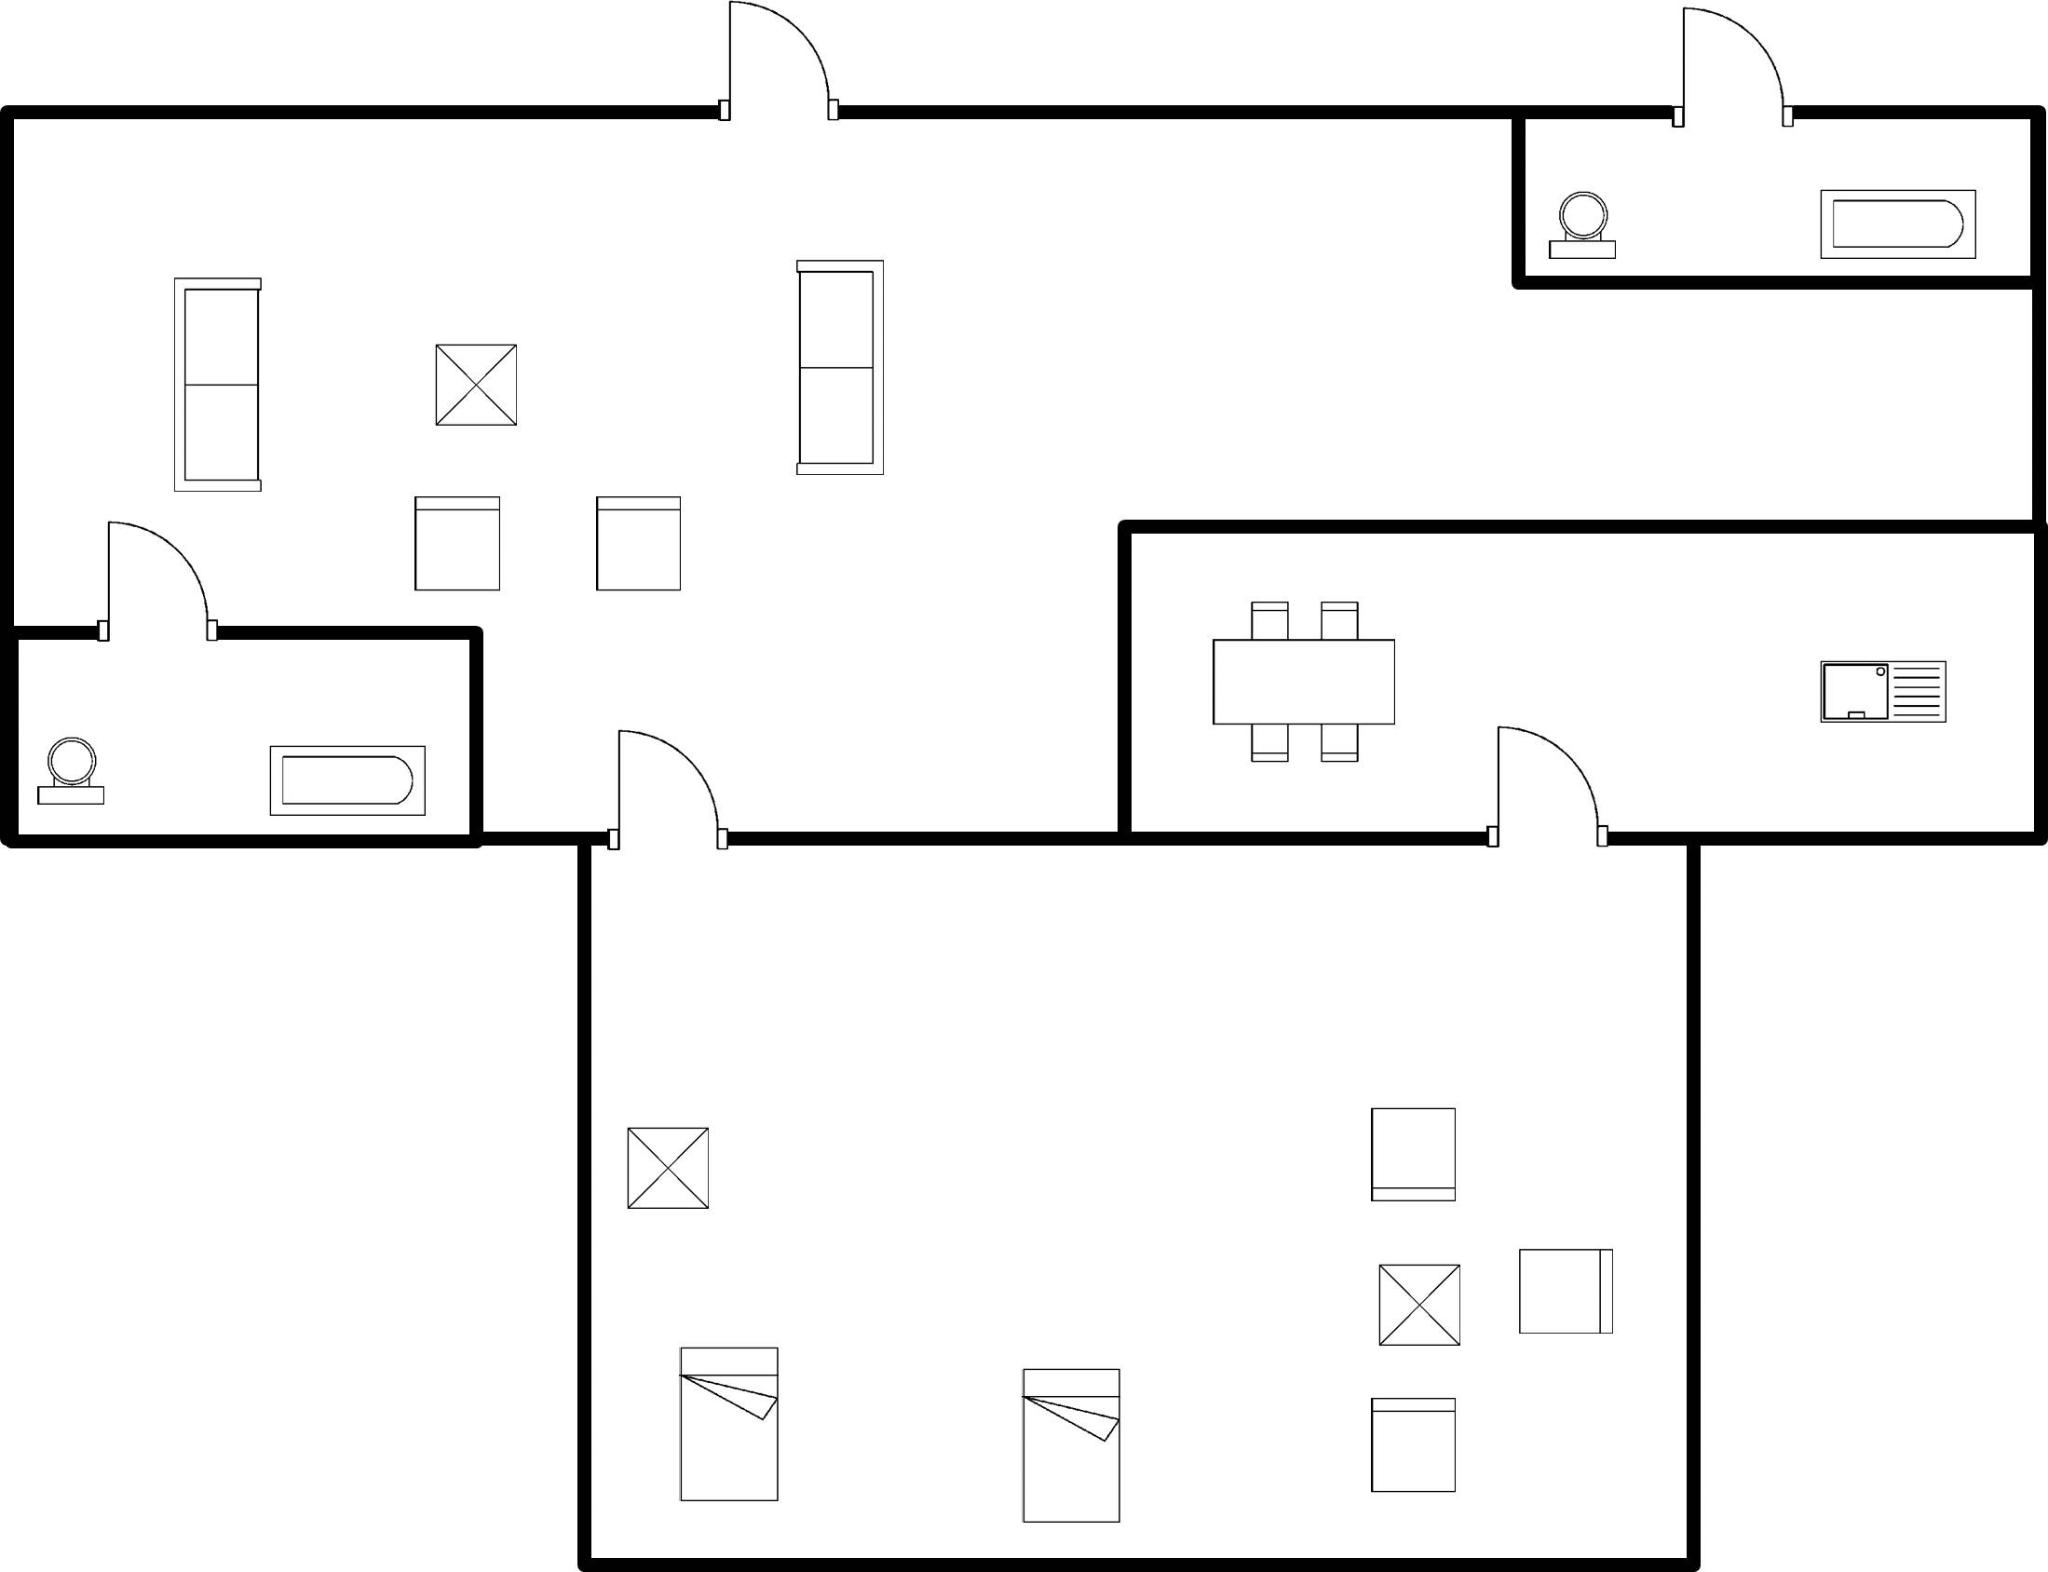bed: (662, 1333, 791, 1516), (1004, 1356, 1133, 1534)
dining_table: (1194, 585, 1410, 778)
sink: (1804, 652, 1962, 740)
sofa: (781, 248, 890, 485), (162, 264, 271, 500)
toilet: (1539, 182, 1625, 264), (30, 728, 114, 811)
tub: (1807, 177, 1990, 268), (253, 735, 438, 822)
